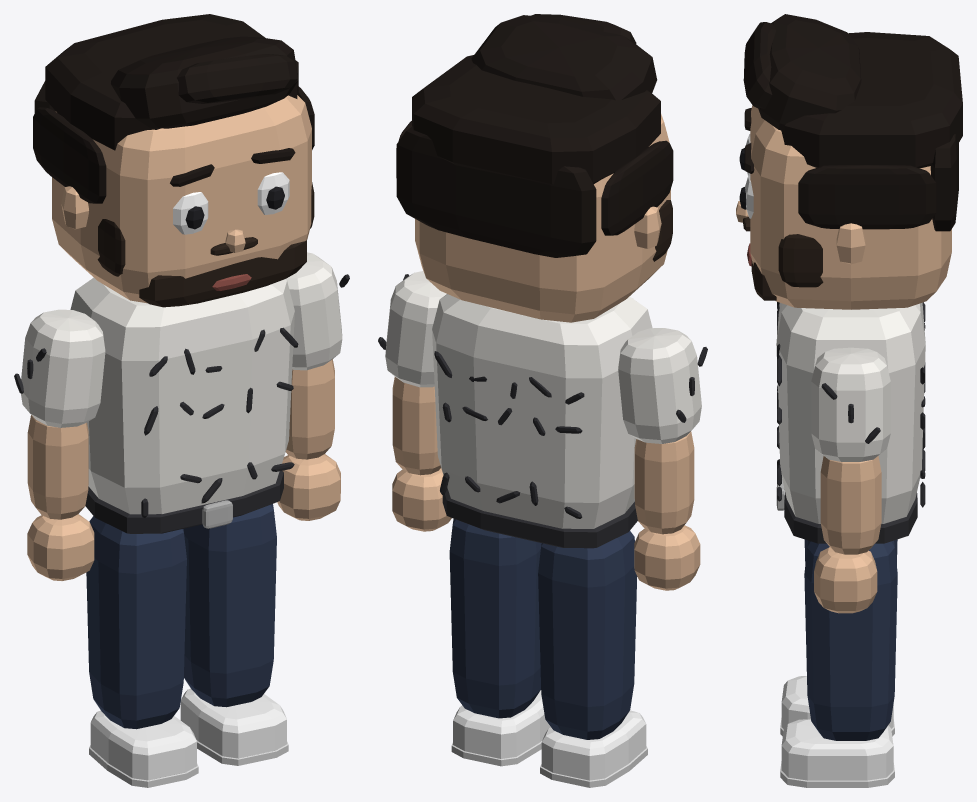
File: hero-alik.glb
3 views of the same model, side by side, from view 1: azimuth 30°, elevation 25°; view 2: azimuth 150°, elevation 25°; view 3: azimuth 270°, elevation 25° (orthographic).
Visible parts, largest first — view 1: head, torso, leg-right, leg-left, arm-right, arm-left; view 2: head, torso, leg-right, leg-left, arm-right, arm-left; view 3: head, torso, leg-left, arm-left, leg-right.
Boxes of the visible parts, x1,y1,x2,y2 form: head: (33,14,314,307); torso: (70,277,298,533); leg-right: (86,516,198,787); leg-left: (180,504,288,765); arm-right: (14,309,105,580); arm-left: (277,252,349,520); head: (396,14,673,322); torso: (432,294,652,548); leg-right: (538,531,647,787); leg-left: (449,519,550,766); arm-right: (618,328,707,590); arm-left: (378,271,451,531); head: (736,14,962,309); torso: (776,302,925,543); leg-left: (780,540,897,787); arm-left: (811,347,890,613); leg-right: (780,539,897,736).
Bounding box in the file's own units: 1.3 × 2.91 × 0.8396.
